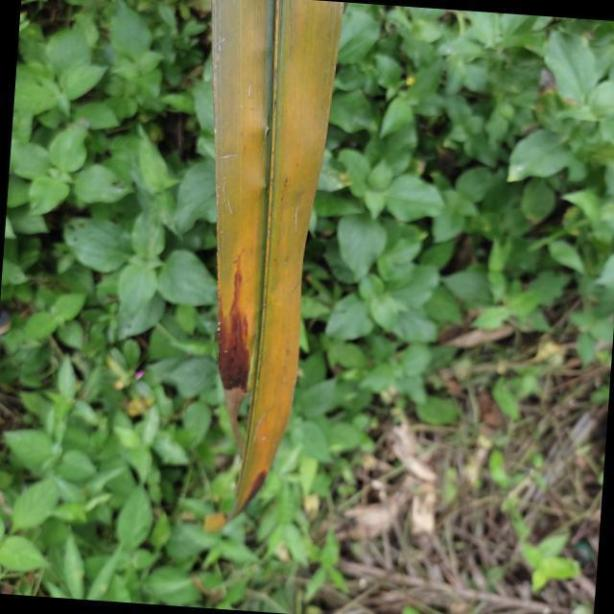Megnesium: (206, 0, 345, 519)
